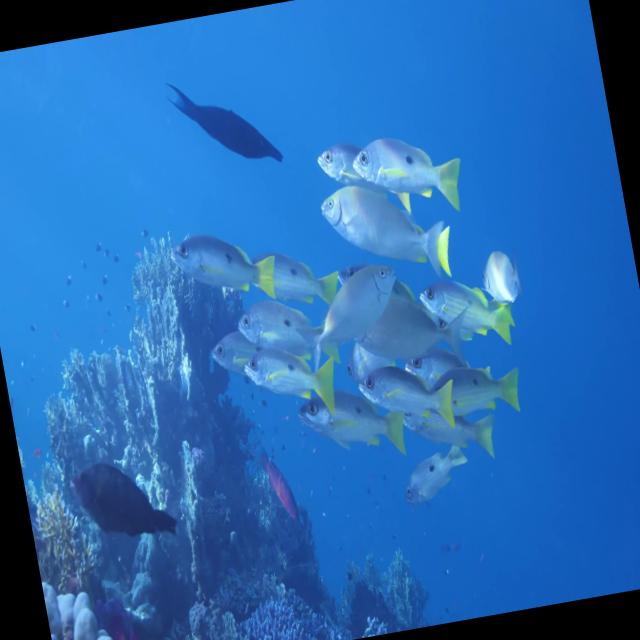fish: (307, 161, 447, 290), (158, 58, 286, 184), (349, 121, 478, 240), (67, 442, 182, 554), (160, 211, 282, 308), (290, 368, 406, 468), (346, 356, 473, 446), (232, 332, 344, 421), (417, 264, 517, 363), (244, 235, 346, 318), (230, 278, 328, 360), (396, 438, 479, 516), (406, 396, 501, 459), (432, 360, 532, 410), (473, 236, 528, 312), (308, 137, 369, 190), (206, 314, 258, 372)
